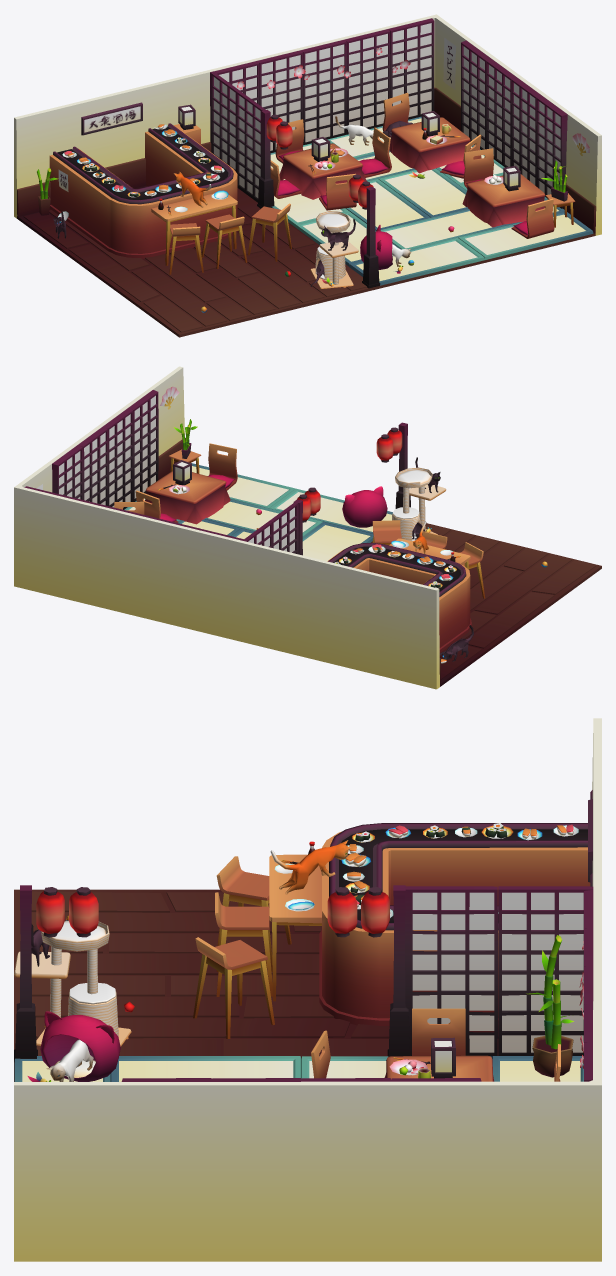
File: modelNew.fbx
3 renders of one model, top to bottom at view 1: azimuth 30°, elevation 25°; view 2: azimuth 150°, elevation 25°; view 3: azimuth 270°, elevation 25°, orthographic. The views are drawn at different scales.
Parts seen in each view (by area): view 1: 87, 57, 77, 43, 67, 31, 17; view 2: 87, 77, 57, 43, 67; view 3: 87, 77, 57, 67, 43.
Part boxes in pixels (x1=…): 87: x1=14, y1=14, x2=601, y2=285; 57: x1=17, y1=18, x2=595, y2=337; 77: x1=23, y1=23, x2=575, y2=332; 43: x1=49, y1=21, x2=561, y2=284; 67: x1=38, y1=92, x2=589, y2=312; 31: x1=84, y1=106, x2=140, y2=132; 17: x1=443, y1=38, x2=456, y2=89; 87: x1=14, y1=366, x2=440, y2=689; 77: x1=52, y1=394, x2=596, y2=679; 57: x1=24, y1=390, x2=601, y2=686; 43: x1=58, y1=392, x2=471, y2=663; 67: x1=114, y1=386, x2=547, y2=661; 87: x1=14, y1=718, x2=601, y2=1261; 77: x1=14, y1=823, x2=592, y2=1081; 57: x1=14, y1=790, x2=593, y2=1081; 67: x1=14, y1=799, x2=592, y2=1081; 43: x1=27, y1=823, x2=587, y2=1081.
Bounding box in the file's own units: 1863 × 417 × 1261.
4 materials, 4 textured.
